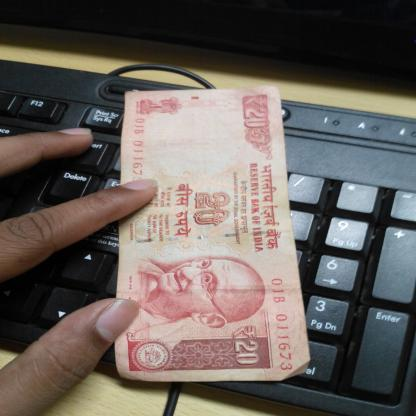Old20Front: (114, 85, 311, 383)
